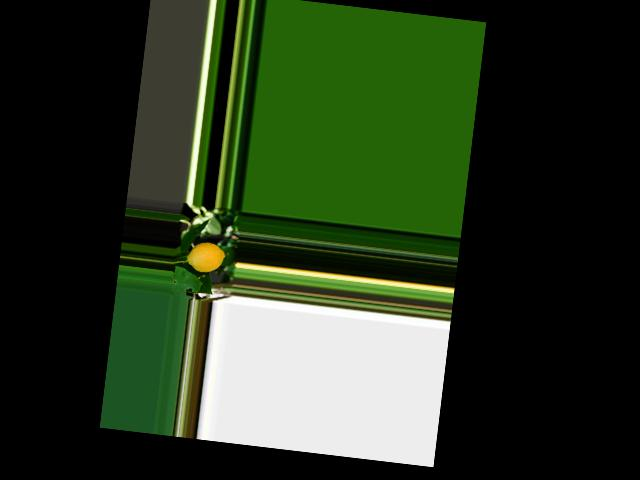lemon: (184, 236, 231, 275)
